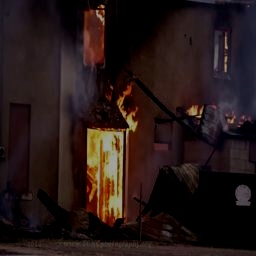fire: (84, 125, 129, 220), (77, 6, 111, 68)
